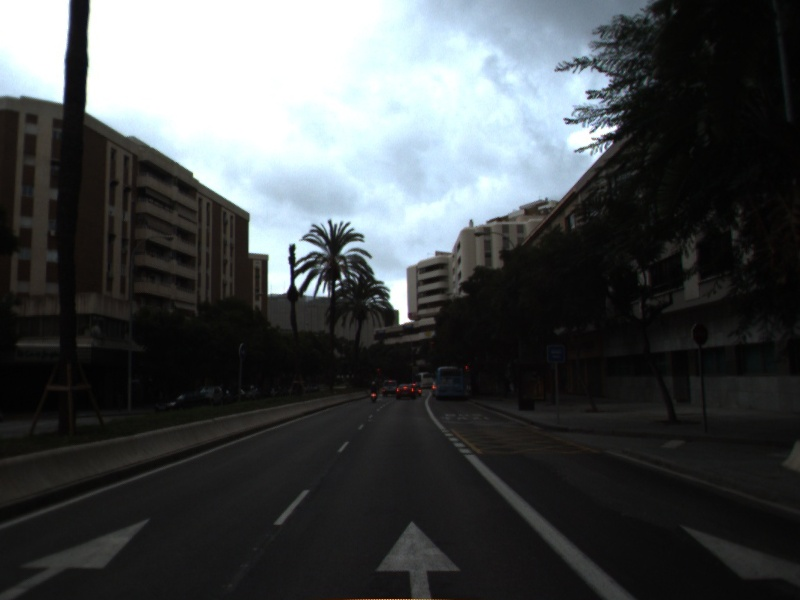STRAIGHT: (1, 514, 154, 600), (373, 517, 464, 600)
